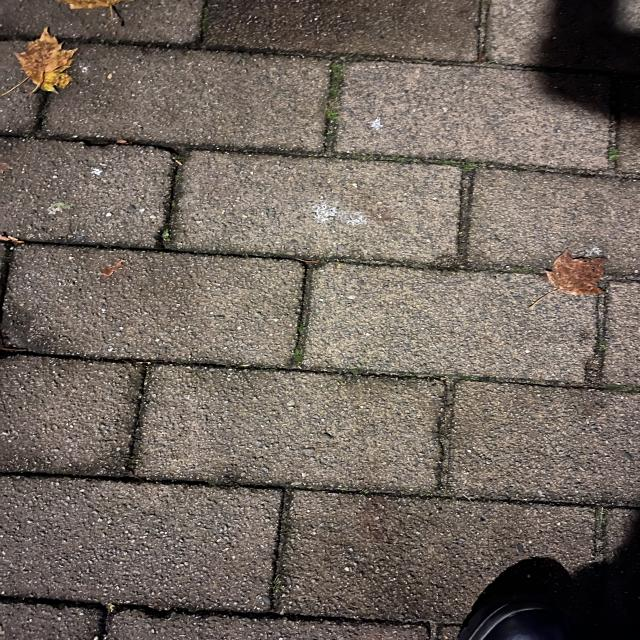leaves: (0, 28, 112, 102), (543, 244, 615, 292)
pavement: (9, 115, 530, 616), (135, 10, 640, 248)
